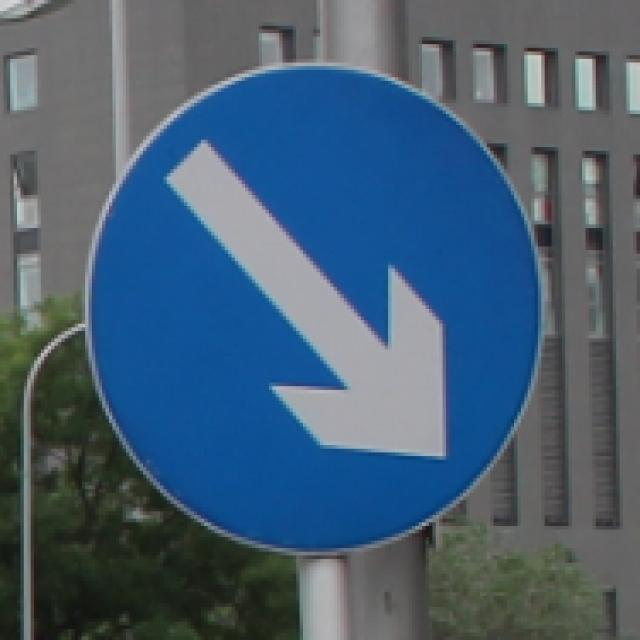Right: (80, 48, 557, 559)
